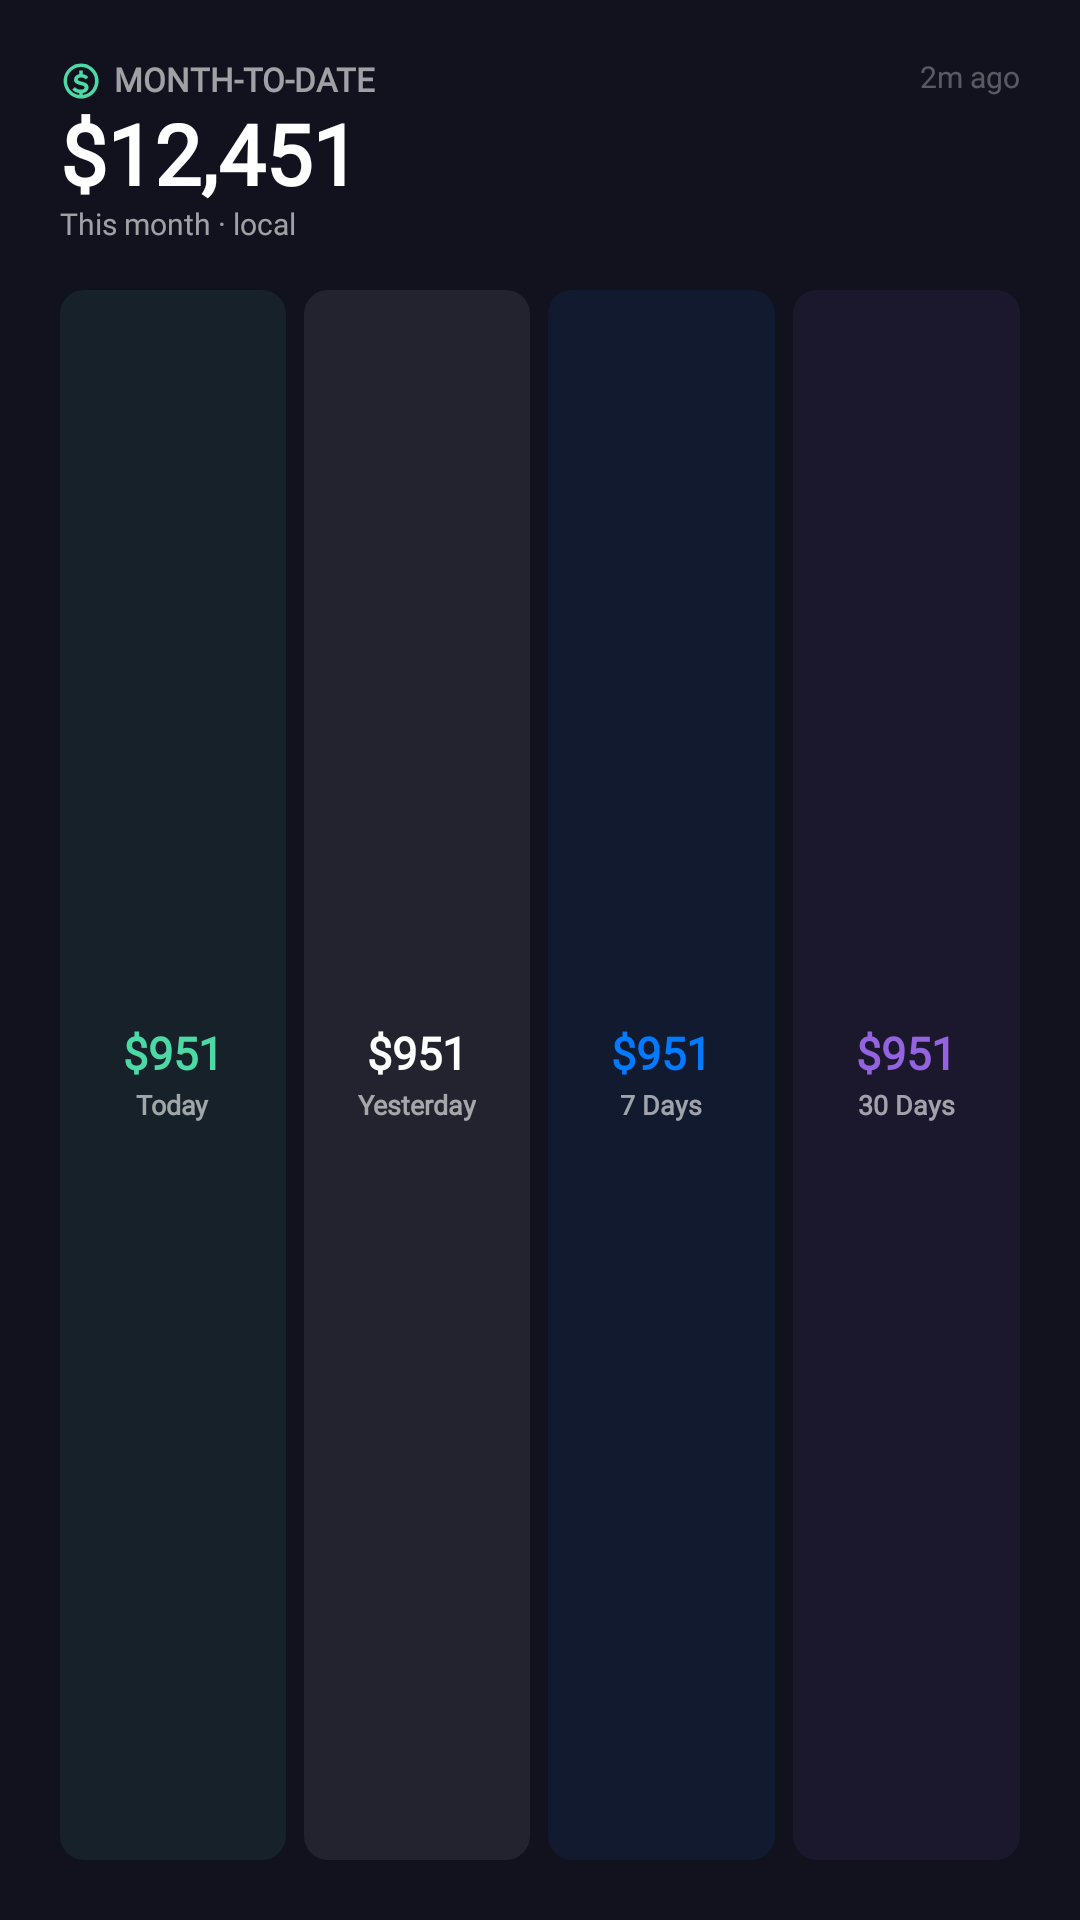

Screen size 1080×1920. Icon name, then its box in pixels as (x1, y1, x2, y2):
widget dollar circle: (63, 63, 99, 99)
